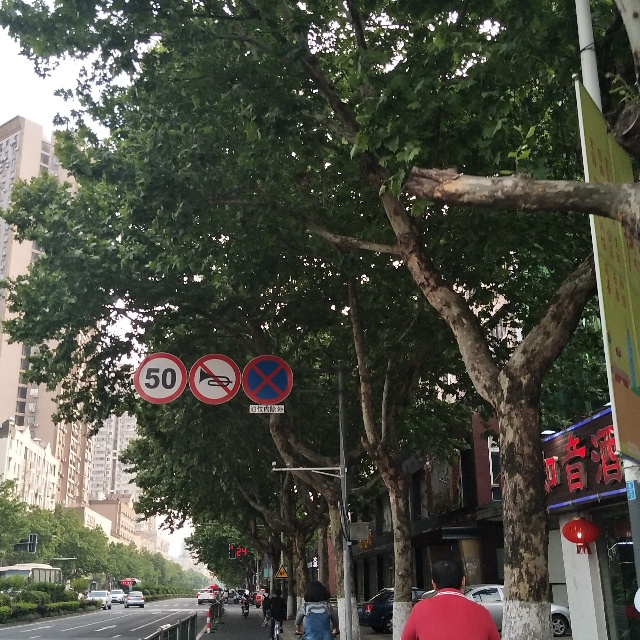nohonk: (186, 353, 240, 411)
stop: (244, 358, 292, 405)
